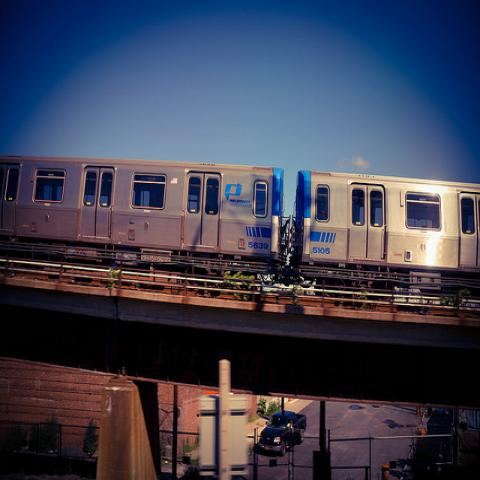car: (259, 409, 309, 457)
truck: (257, 408, 308, 459)
